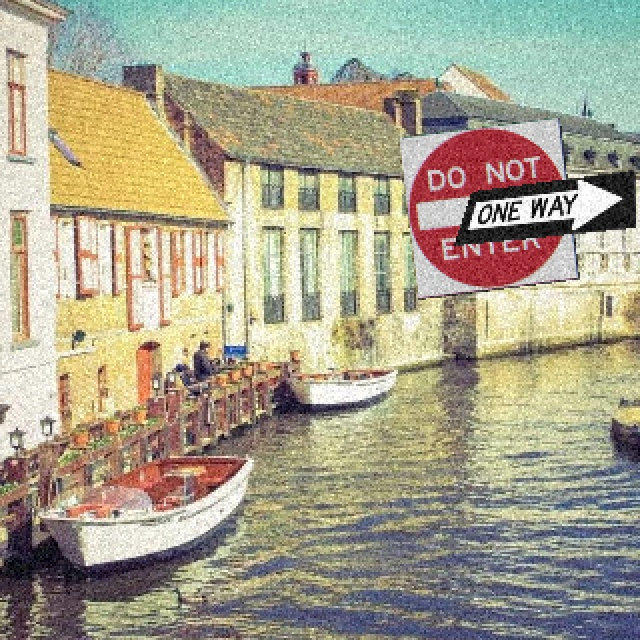DO_NOT_ENTER: (397, 116, 579, 299)
ONE_WAY_ right: (453, 169, 636, 245)
